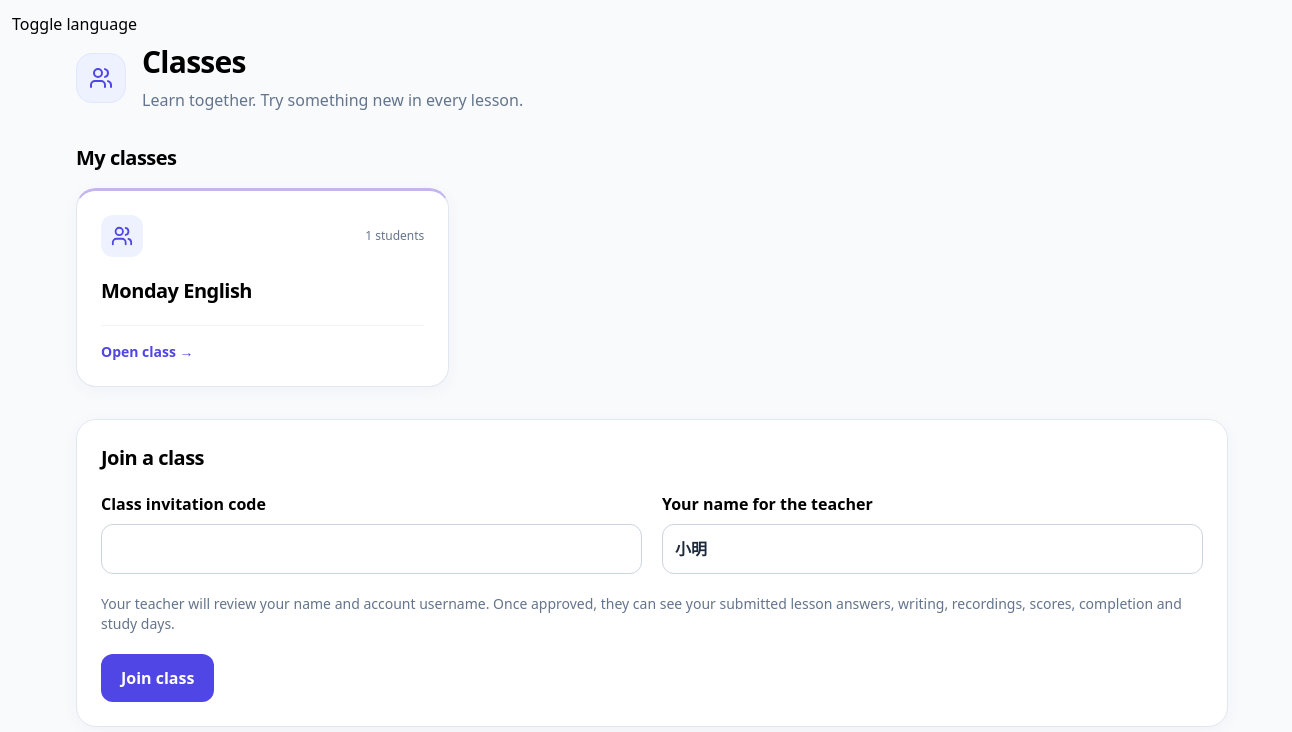
Test: returning from a lesson shows the existing class immediately while progress refresh is delayed
Click the button "1 students Monday English Open class →": (122, 236) [76,188,449,387]
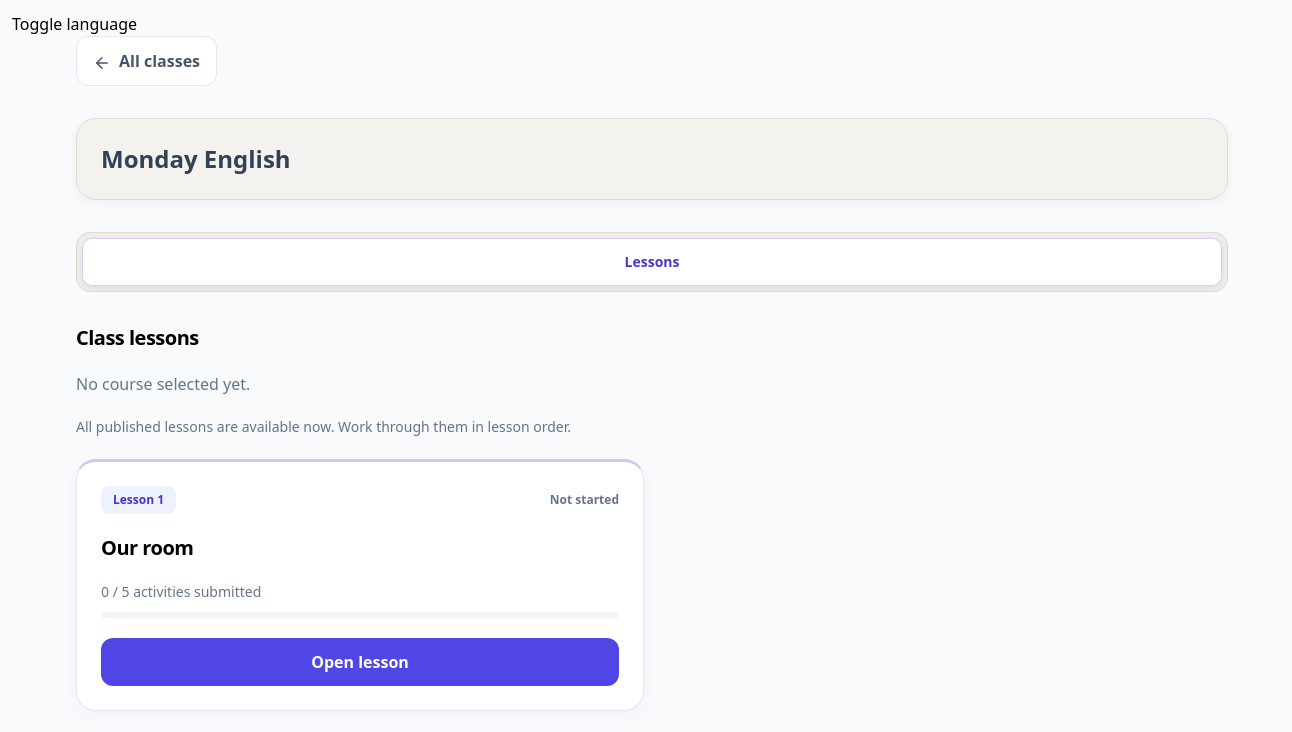
Click the button "Open lesson": (360, 662) [101,638,619,686]
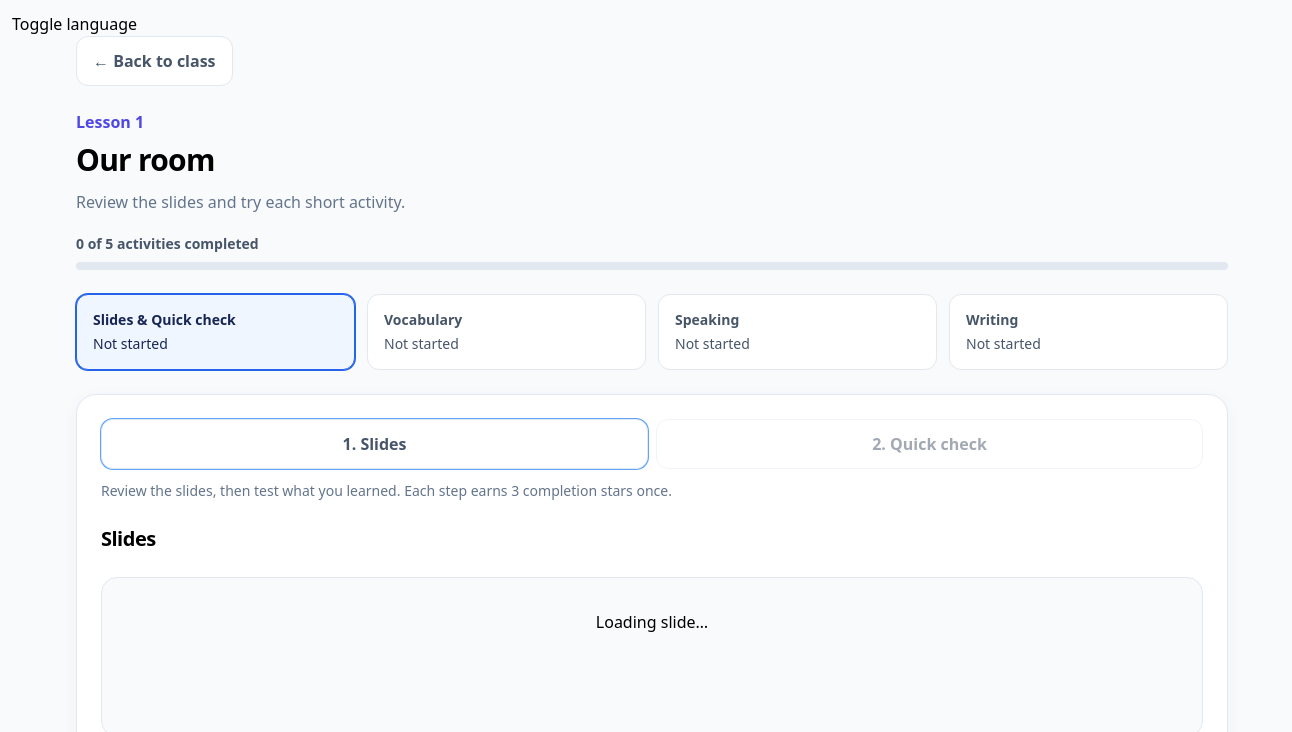
Click the button "← Back to class": (154, 61) [76,36,233,86]
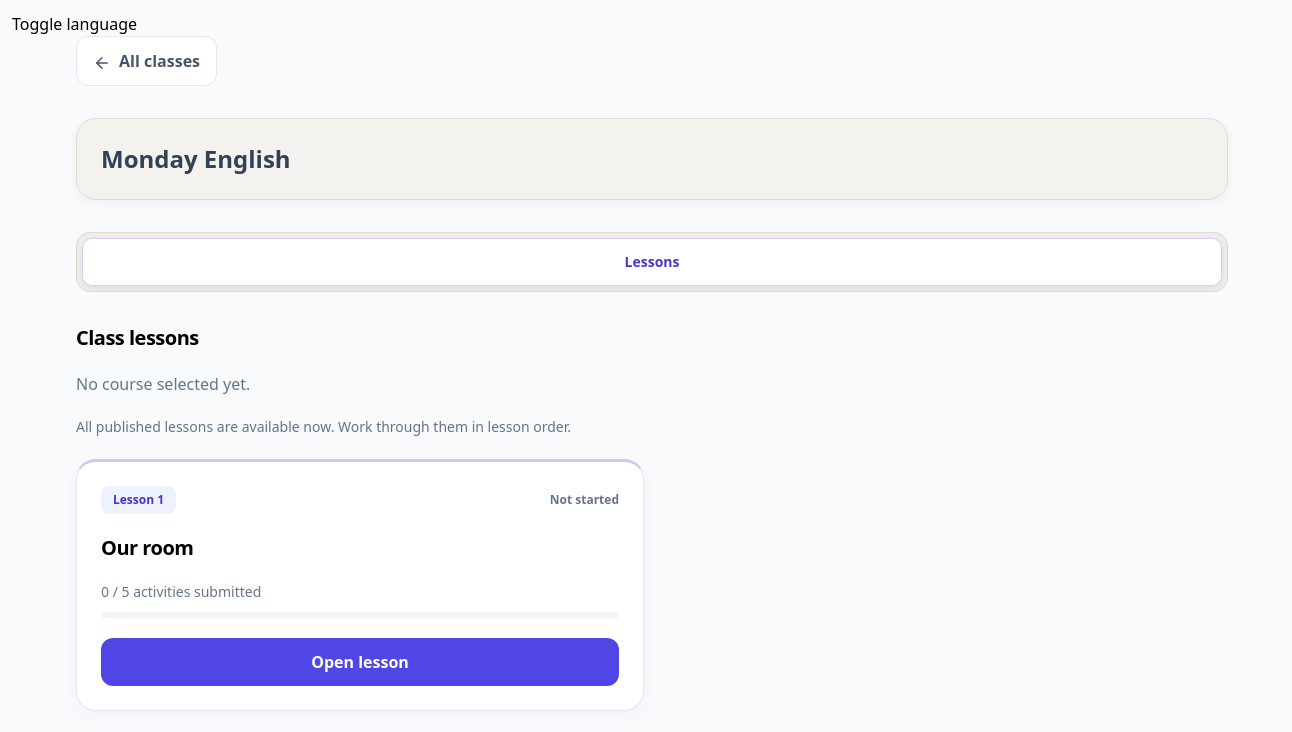
Expected: the heading "Monday English" is shown, [101,142,291,175]
Expected: the button "Open lesson" is shown, [101,638,619,686]
